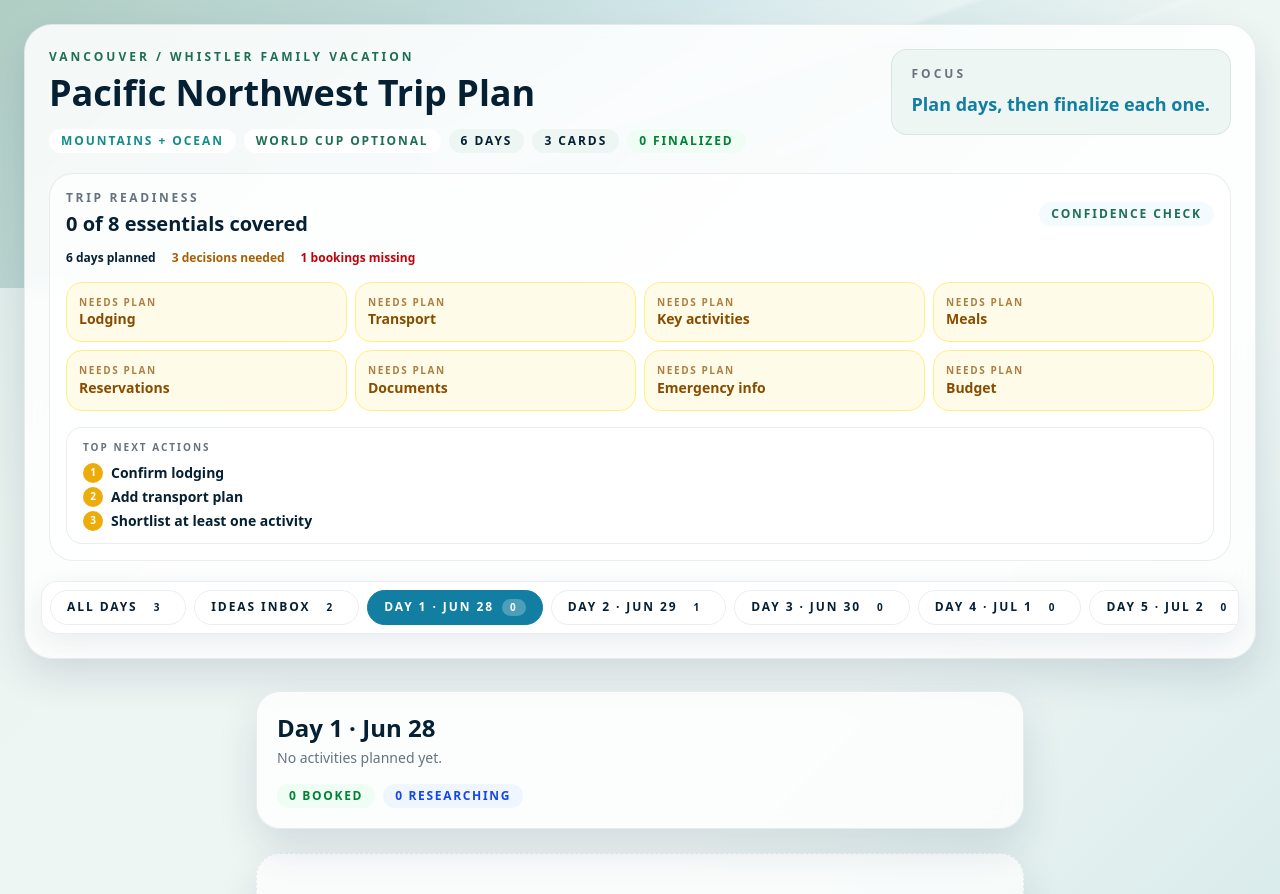
Scenario: KanbanBoard › shows day itinerary sections and gap cues
Click the button "Day 2 · Jun 29 1".
click(638, 607)  # box [551,590,726,625]
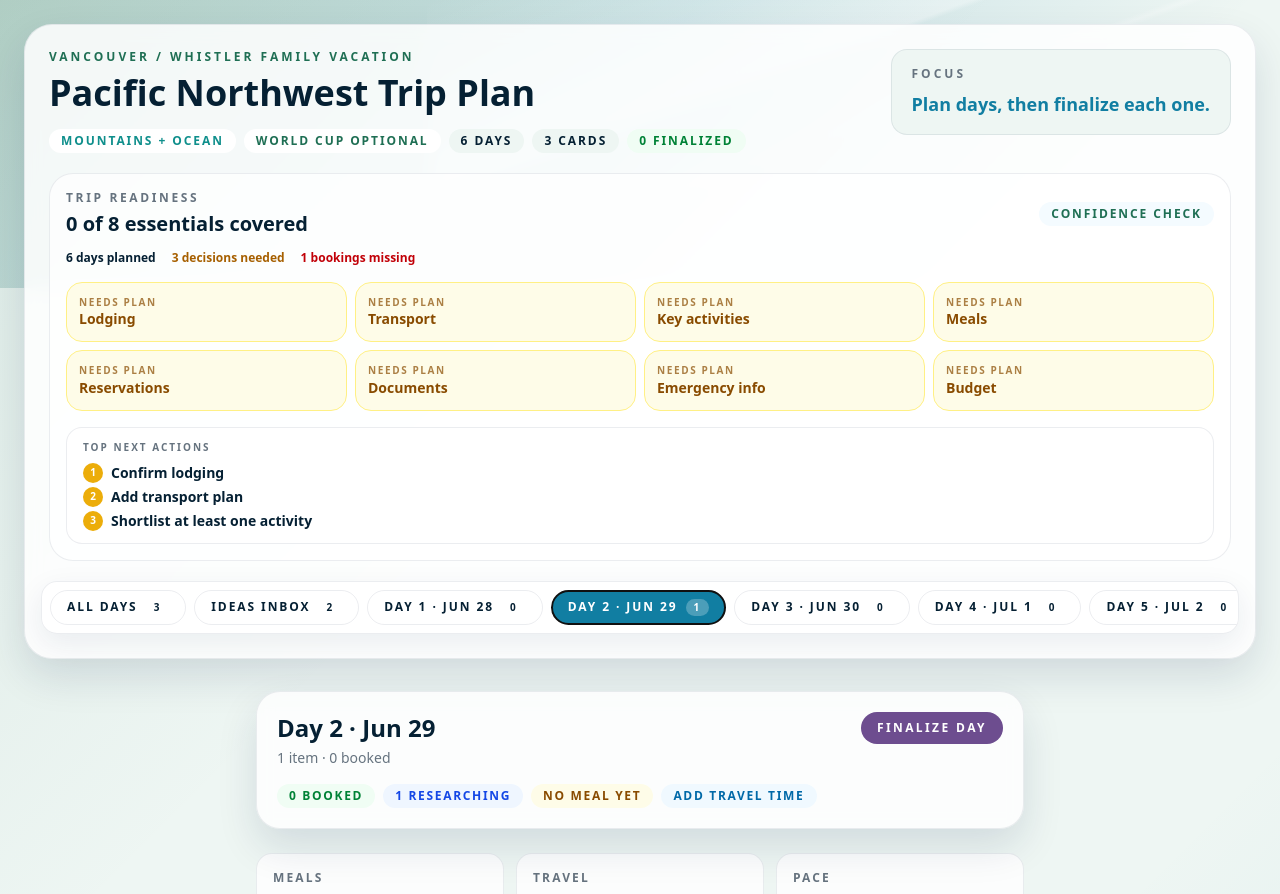
Expected: the text "Meals" is shown, [946,309,987,328]
Expected: the text "Travel" is shown, [533,869,590,886]
Expected: the text "Pace" is shown, [793,869,831,886]
